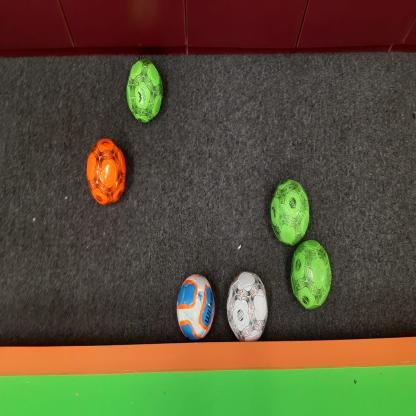ball: (227, 270, 270, 344), (290, 240, 333, 310), (270, 178, 310, 247), (86, 137, 126, 205), (177, 273, 214, 341), (126, 58, 164, 124)
